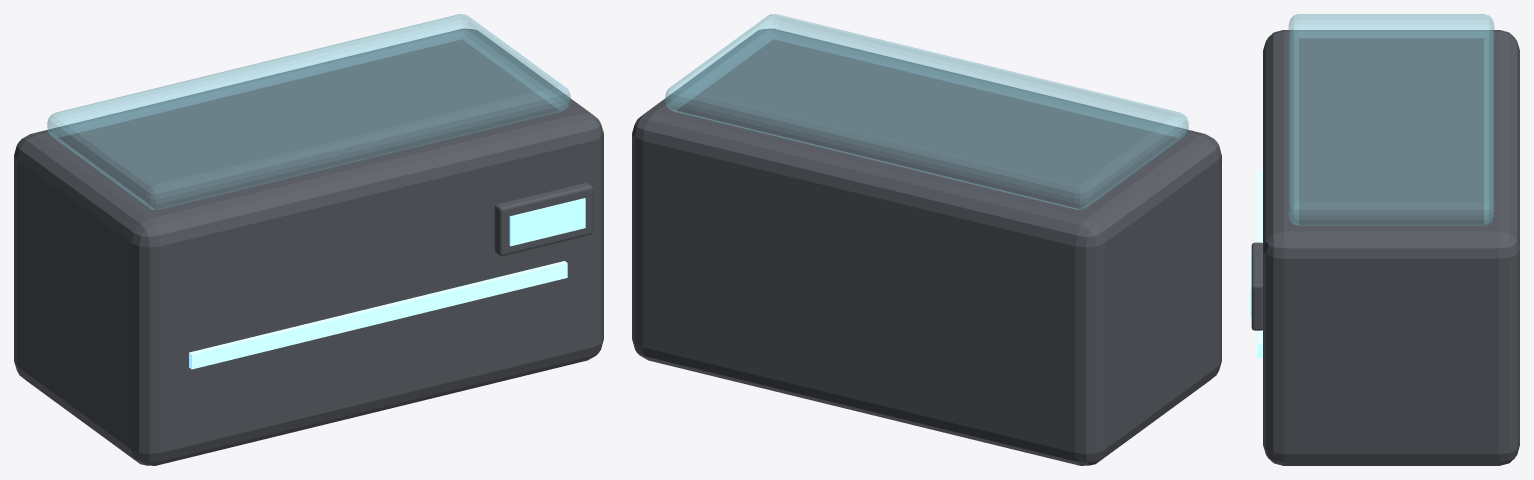
File: cargo_crate_cryo_case.glb
The picture shows the model from 3 angles, left to right: view 1: azimuth 30°, elevation 25°; view 2: azimuth 150°, elevation 25°; view 3: azimuth 270°, elevation 25°; orthographic projection. The views are drawn at different scales.
Visible parts, largest first — view 1: GD_cargo_crate_cryo_case__m0, GD_cargo_crate_cryo_case__m1, GD_cargo_crate_cryo_case__m2, GD_cargo_crate_cryo_case__m3; view 2: GD_cargo_crate_cryo_case__m0, GD_cargo_crate_cryo_case__m1; view 3: GD_cargo_crate_cryo_case__m0, GD_cargo_crate_cryo_case__m1, GD_cargo_crate_cryo_case__m2.
Part boxes in pixels (x1,y1,x2,y2): GD_cargo_crate_cryo_case__m0: (14,28,603,465); GD_cargo_crate_cryo_case__m1: (47,14,570,209); GD_cargo_crate_cryo_case__m2: (189,261,567,369); GD_cargo_crate_cryo_case__m3: (509,198,585,246); GD_cargo_crate_cryo_case__m0: (632,28,1221,465); GD_cargo_crate_cryo_case__m1: (665,14,1188,209); GD_cargo_crate_cryo_case__m0: (1251,30,1519,465); GD_cargo_crate_cryo_case__m1: (1288,14,1494,225); GD_cargo_crate_cryo_case__m2: (1257,170,1262,357).
Size of the model in its own units: 1 by 0.55 by 0.5255.
